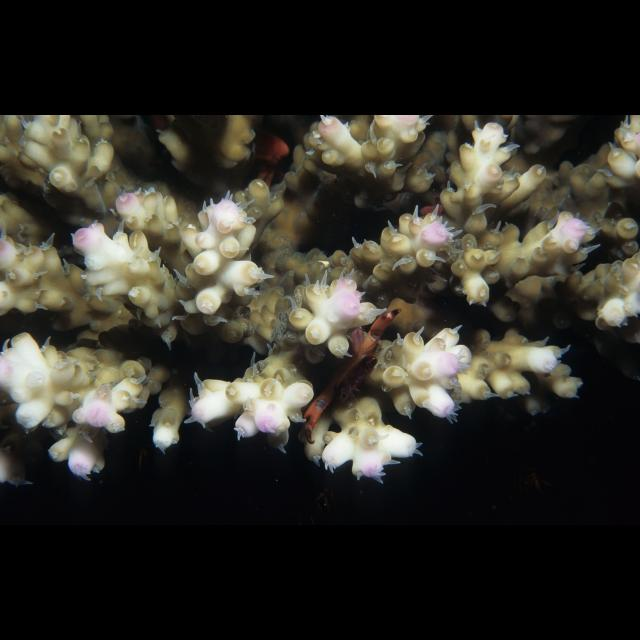Flower: (1, 115, 640, 482)
